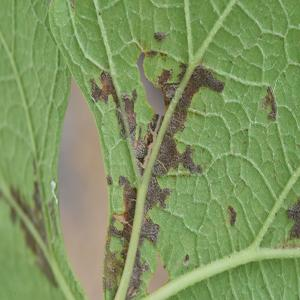Folha: (0, 0, 300, 299)
Fungo: (91, 56, 224, 298), (150, 61, 224, 176), (89, 69, 153, 175), (9, 158, 58, 288), (114, 89, 154, 174), (88, 69, 128, 139), (151, 133, 203, 176), (126, 248, 149, 298), (89, 69, 119, 107), (144, 174, 172, 214), (118, 174, 137, 214), (179, 143, 203, 174), (286, 196, 300, 240), (260, 86, 277, 120), (140, 215, 159, 245), (114, 107, 126, 139), (149, 112, 159, 132), (227, 204, 236, 226), (118, 174, 131, 188), (51, 179, 58, 204), (154, 31, 167, 43), (146, 49, 157, 58), (106, 172, 113, 186), (182, 253, 189, 266)
